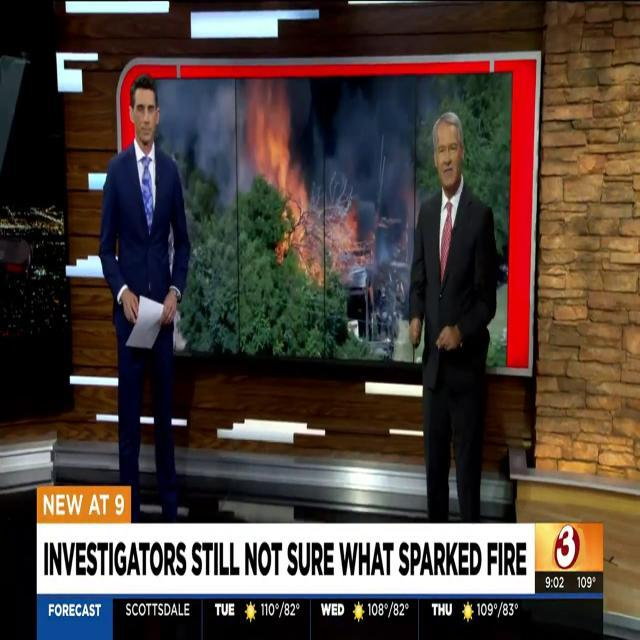Fire: (244, 82, 356, 297)
Smoke: (314, 76, 422, 263)
